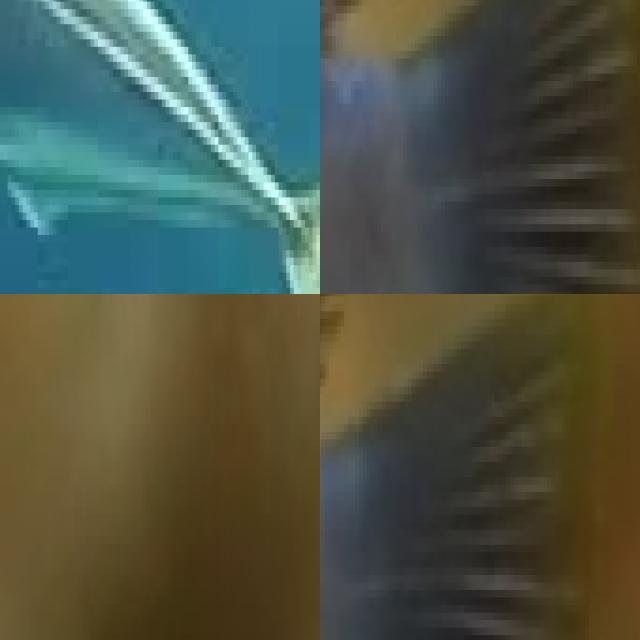fish: (0, 0, 320, 294), (320, 0, 640, 294)
